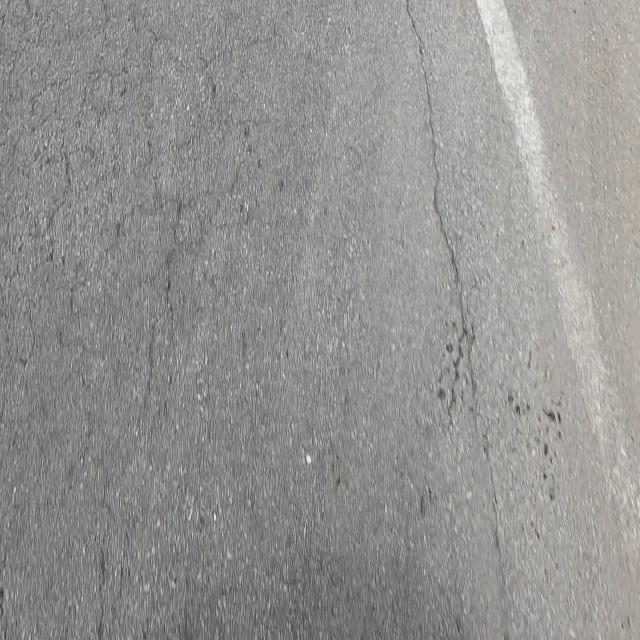Retak-Memanjang: (404, 0, 471, 410)
